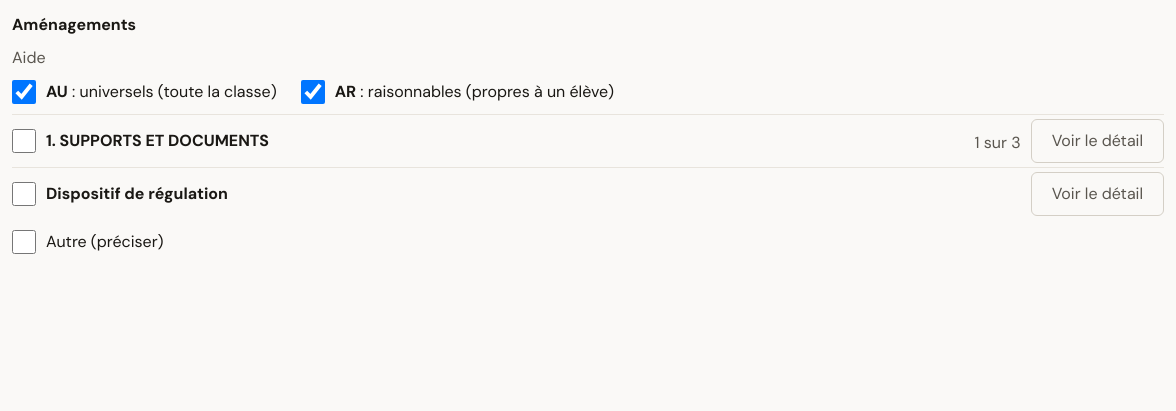
Test: SelecteurAmenagements › signale un aménagement désactivé dans AménagActif
What coordinates should you click on to do the following:
click the button "Voir le détail" in the row of "sur"
I would click on:
 (1097, 141)
Its box is [1031,119,1164,163].
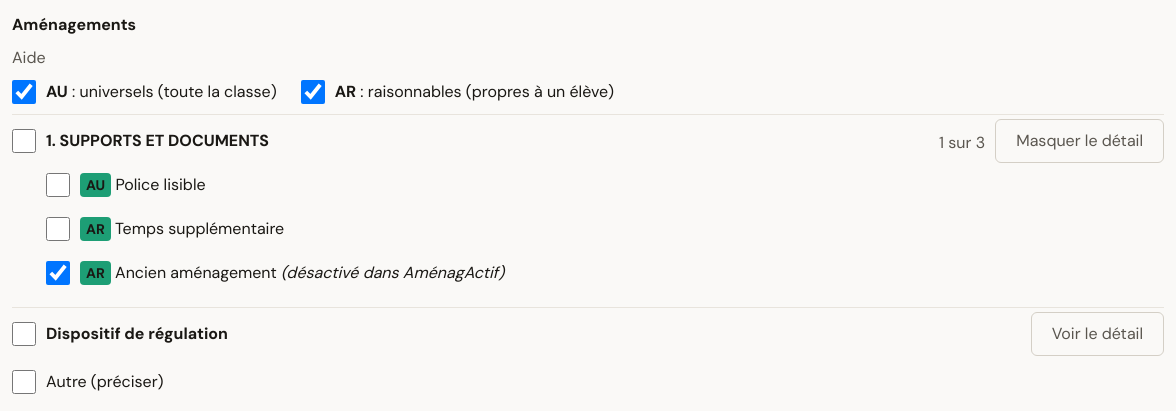
Expected: the text "(désactivé dans AménagActif)" is shown, [277,262,504,283]
